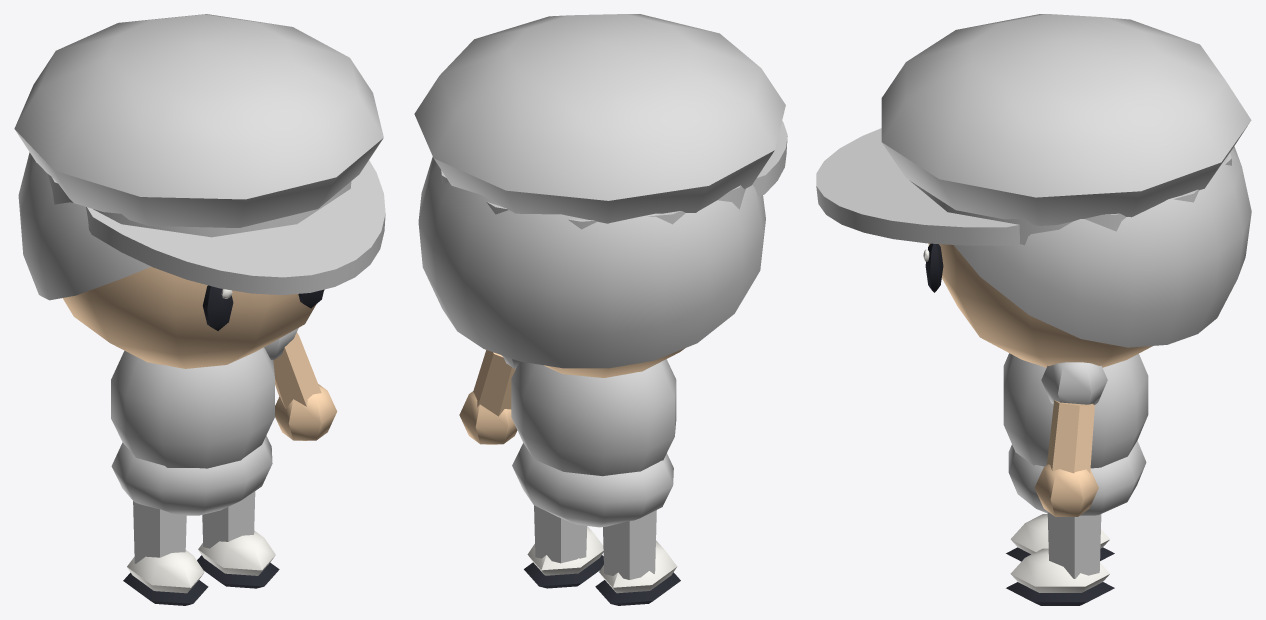
The model's file is guyh_captain_w.fbx.
3 views of the same model, side by side, from view 1: azimuth 30°, elevation 25°; view 2: azimuth 150°, elevation 25°; view 3: azimuth 270°, elevation 25° (orthographic).
Visible parts, largest first — view 1: guyh_captain_w; view 2: guyh_captain_w; view 3: guyh_captain_w.
Part boxes in pixels (x1,y1,x2,y2): guyh_captain_w: (14, 14, 385, 605); guyh_captain_w: (414, 14, 787, 605); guyh_captain_w: (816, 14, 1251, 605).
Bounding box in the file's own units: 0.4661 × 0.7567 × 0.5535.
